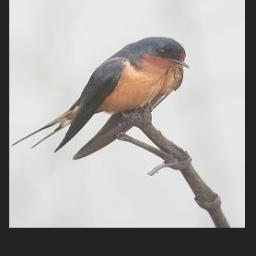Swallow: (14, 35, 192, 159)
